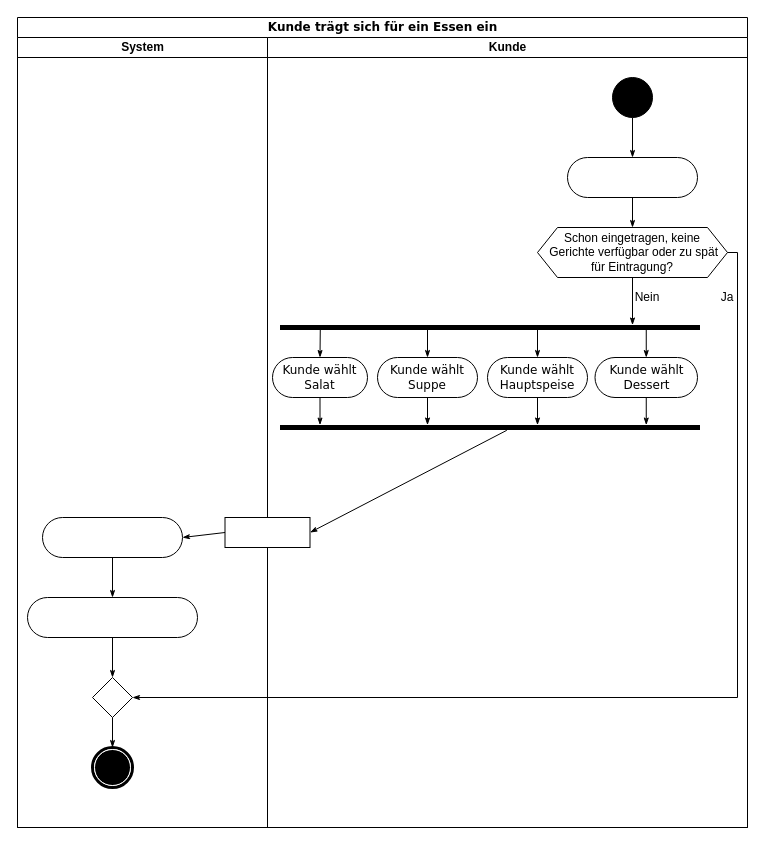
Image size: 765x845. Some labels were removed from this diagram. Here are the shapes that lost their labels. From the top down, the box of each, then its label:
(566, 156, 698, 198): Kunde drückt auf Tag für Eintragung
(42, 516, 182, 558): Eintragung wird gespeichert
(224, 516, 310, 548): Eintragung
(26, 596, 198, 638): Kunde wird in den Menüplan zurückgeworfen
